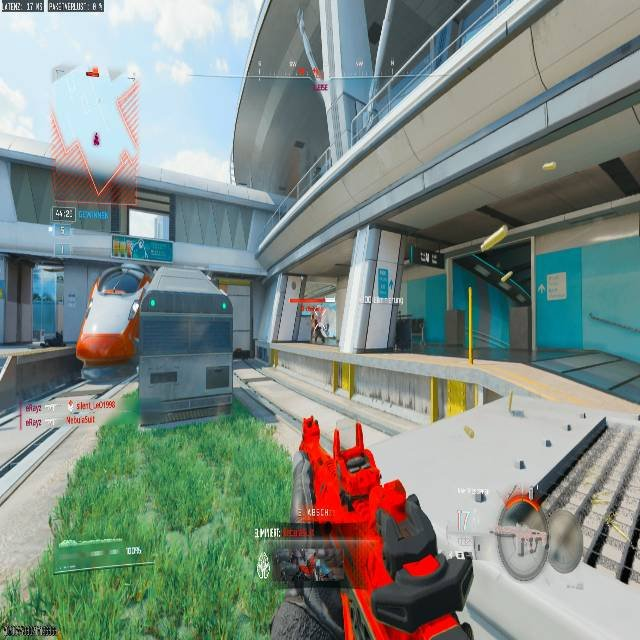player: (312, 314, 326, 343)
